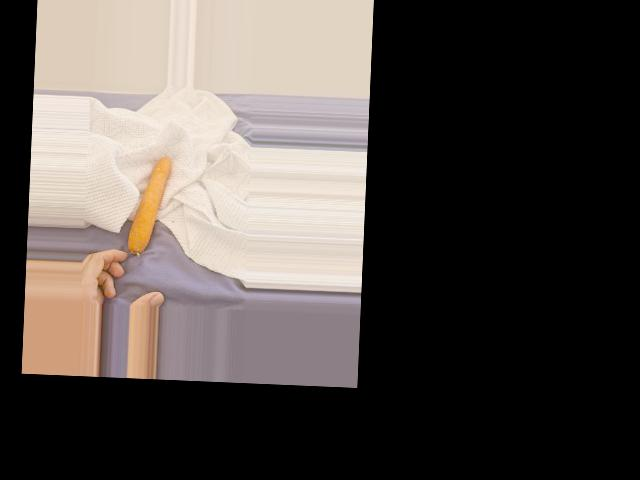carrot: (128, 155, 171, 256)
